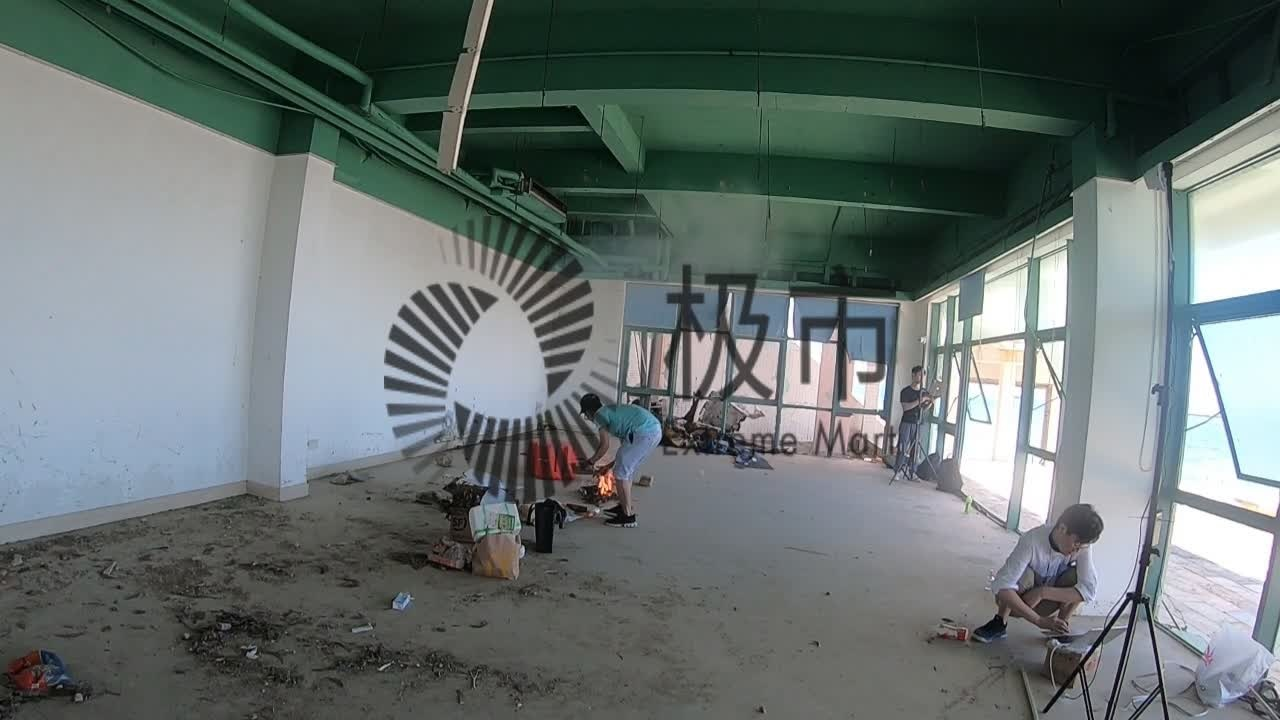fire: (597, 464, 615, 496)
